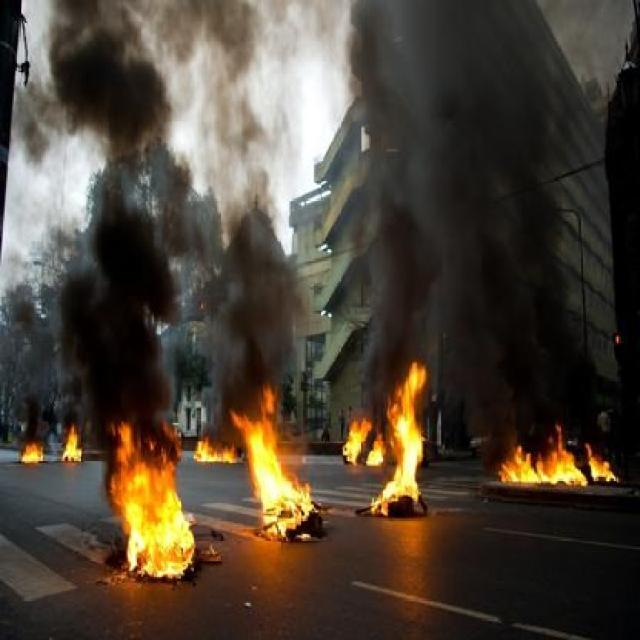Fire: (110, 410, 204, 586), (234, 379, 318, 547), (380, 358, 428, 516), (504, 426, 584, 494), (196, 431, 244, 474), (351, 407, 382, 472), (587, 443, 624, 487), (14, 432, 47, 468), (60, 424, 84, 466)
Smoke: (350, 18, 558, 355), (64, 22, 181, 402), (206, 33, 294, 370)
